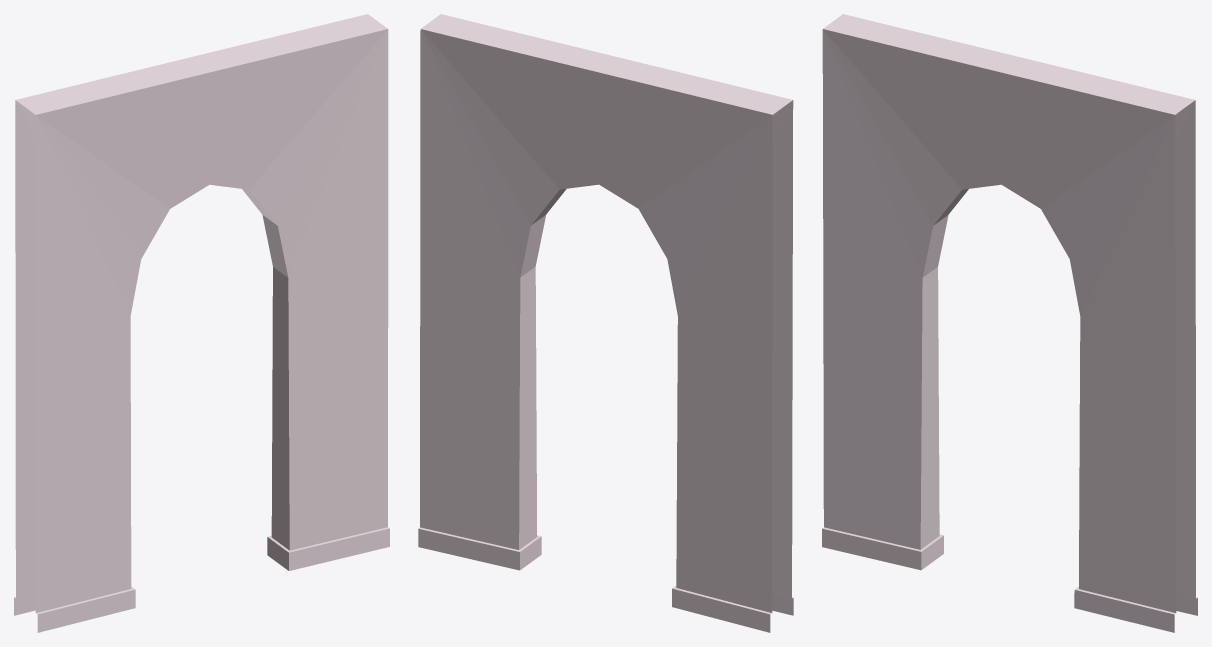
Rendered from env_wall_arc_interior.fbx.
3 renders of one model, left to right at view 1: azimuth 30°, elevation 25°; view 2: azimuth 150°, elevation 25°; view 3: azimuth 330°, elevation 25°, orthographic.
Visible parts, largest first — view 1: Casa pared arco Interior; view 2: Casa pared arco Interior; view 3: Casa pared arco Interior.
Part boxes in pixels (x1,y1,x2,y2): Casa pared arco Interior: (14, 14, 389, 632); Casa pared arco Interior: (418, 14, 793, 632); Casa pared arco Interior: (822, 14, 1197, 632).
Size of the model in its own units: 200 by 280 by 23.
Materials: 1 (1 with a texture image).
